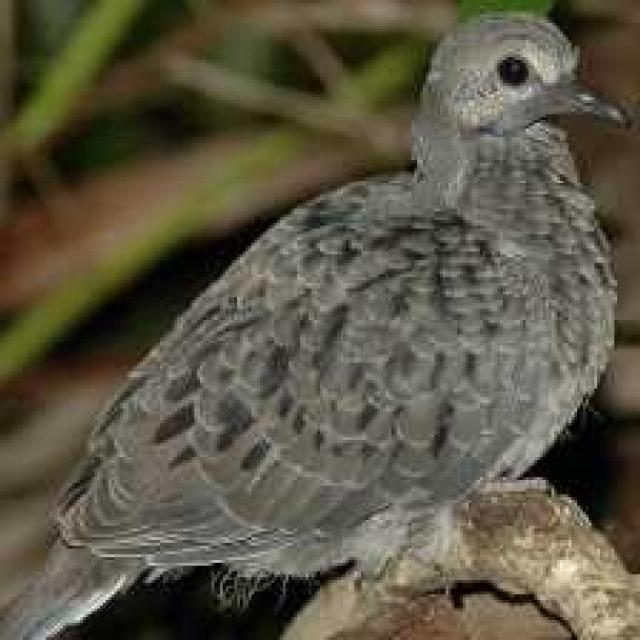bird: (16, 0, 640, 640)
